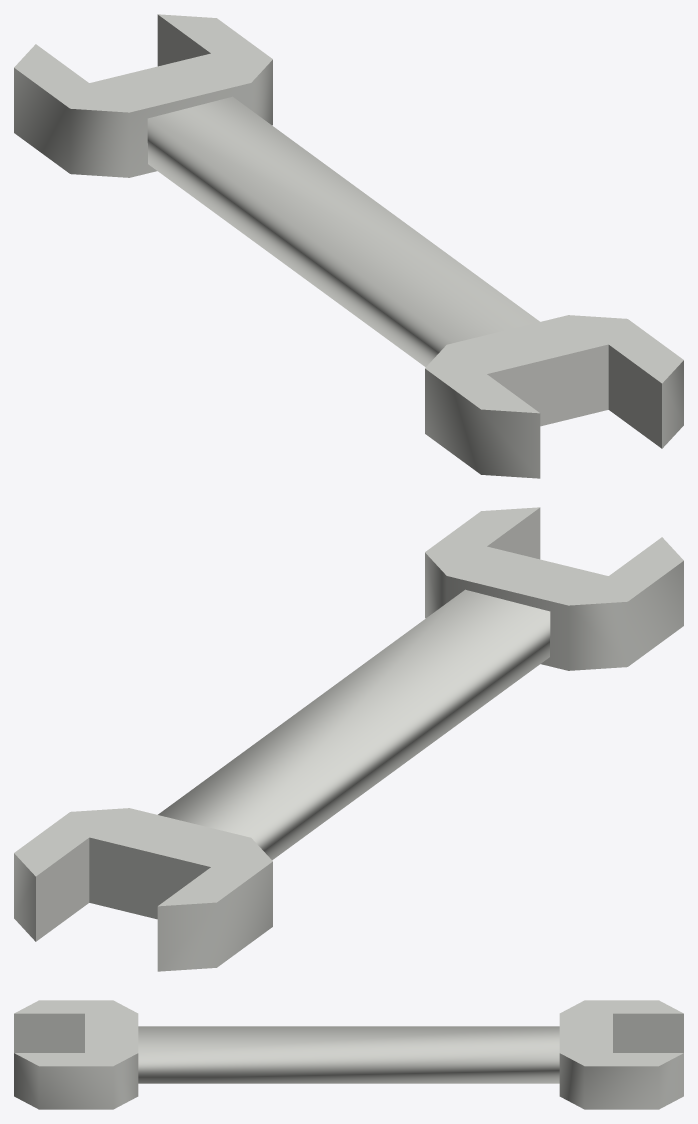
The model's file is 0047_Wrench.glb.
3 renders of one model, top to bottom at view 1: azimuth 30°, elevation 25°; view 2: azimuth 150°, elevation 25°; view 3: azimuth 270°, elevation 25°, orthographic. The views are drawn at different scales.
Parts seen in each view (by area): view 1: part_0; view 2: part_0; view 3: part_0.
Part boxes in pixels (x1=…): part_0: x1=14, y1=14, x2=683, y2=478; part_0: x1=14, y1=507, x2=683, y2=971; part_0: x1=14, y1=1000, x2=683, y2=1109.
Bounding box in the file's own units: 0.065 × 0.02 × 0.28.
Materials: 1 (1 with a texture image).
